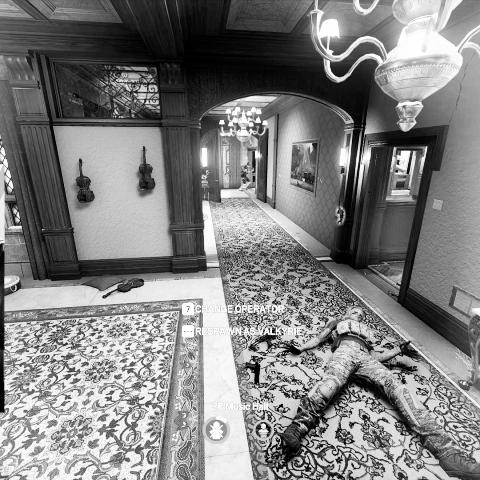Character: (276, 302, 480, 480), (238, 161, 255, 192)
Head: (345, 306, 366, 322), (247, 162, 251, 167)
